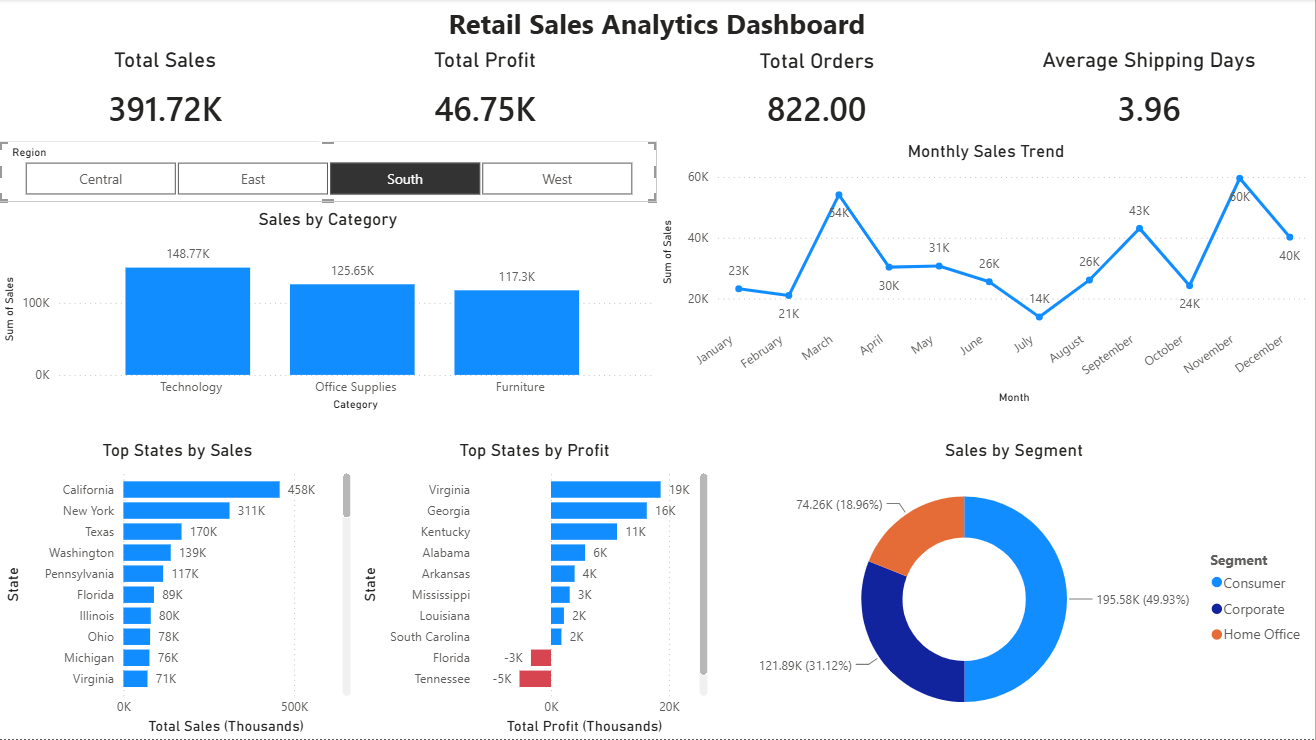

This screenshot's page, from the dashboard's own definition file:
{"tool":"powerbi","page":{"name":"Retail Sales Overview","canvas":[1280,720],"ordinal":0},"visuals":[{"type":"textbox","box":[315.1,0,649.7,46.7],"z":0},{"type":"cardVisual","title":"Total Sales","fields":{"Data":["Sum(public sales.Sales)"]},"box":[0,47.1,323.1,91.9],"z":0,"group":"g1"},{"type":"slicer","fields":{"Values":["public sales.Region"]},"box":[0,138.1,640,59.3],"z":1000},{"type":"clusteredBarChart","title":"Top States by Sales","fields":{"Category":["public sales_by_state.State"],"Y":["Sum(public sales_by_state.total_sales)"]},"box":[0,428.9,347.2,290.8],"z":2000},{"type":"cardVisual","title":"Total Profit","fields":{"Data":["Sum(public sales.Profit)"]},"box":[310.8,47.1,323.1,91.9],"z":3000,"group":"g1"},{"type":"lineChart","title":"Monthly Sales Trend","fields":{"Category":["public sales.Order Date.Variation.Date Hierarchy.Year","public sales.Order Date.Variation.Date Hierarchy.Quarter","public sales.Order Date.Variation.Date Hierarchy.Month","public sales.Order Date.Variation.Date Hierarchy.Day"],"Y":["Sum(public sales.Sales)"]},"box":[640,138.1,640,259.7],"z":3000},{"type":"clusteredColumnChart","title":"Sales by Category","fields":{"Category":["public sales.Category"],"Y":["Sum(public sales.Sales)"]},"box":[0,204.3,640,200.4],"z":4000},{"type":"cardVisual","title":"Total Orders","fields":{"Data":["Count(public sales.Order ID)"]},"box":[634.2,48.2,322.9,91],"z":5000,"group":"g1"},{"type":"donutChart","title":"Sales by Segment","fields":{"Category":["public sales.Segment"],"Y":["Sum(public sales.Sales)"]},"box":[694.5,428.9,585.5,290.8],"z":5000},{"type":"clusteredBarChart","title":"Top States by Profit","fields":{"Y":["Sum(public sales.Profit)"],"Category":["public sales.State"]},"box":[347.2,428.9,347.2,290.8],"z":6000},{"type":"group","id":"g1","title":"Group 1","box":[0,47.1,1280,92.1],"z":7000},{"type":"cardVisual","title":"Average Shipping Days","fields":{"Data":["Avg(public sales.Days To Ship)"]},"box":[956.9,47.1,323.1,91.9],"z":7000,"group":"g1"}]}

Visuals, with their boxes in screenshot pixels (x1, y1, x2, y2), scaled from the page's 1280x720 canvas onto the 1316x740 screenshot:
textbox: [x1=324, y1=0, x2=992, y2=48]
"Total Sales" cardVisual: [x1=0, y1=48, x2=332, y2=143]
slicer - public sales.Region: [x1=0, y1=142, x2=658, y2=203]
"Top States by Sales" clusteredBarChart: [x1=0, y1=441, x2=357, y2=739]
"Total Profit" cardVisual: [x1=320, y1=48, x2=652, y2=143]
"Monthly Sales Trend" lineChart: [x1=658, y1=142, x2=1315, y2=409]
"Sales by Category" clusteredColumnChart: [x1=0, y1=210, x2=658, y2=416]
"Total Orders" cardVisual: [x1=652, y1=50, x2=984, y2=143]
"Sales by Segment" donutChart: [x1=714, y1=441, x2=1315, y2=739]
"Top States by Profit" clusteredBarChart: [x1=357, y1=441, x2=714, y2=739]
"Group 1" group: [x1=0, y1=48, x2=1315, y2=143]
"Average Shipping Days" cardVisual: [x1=984, y1=48, x2=1315, y2=143]
